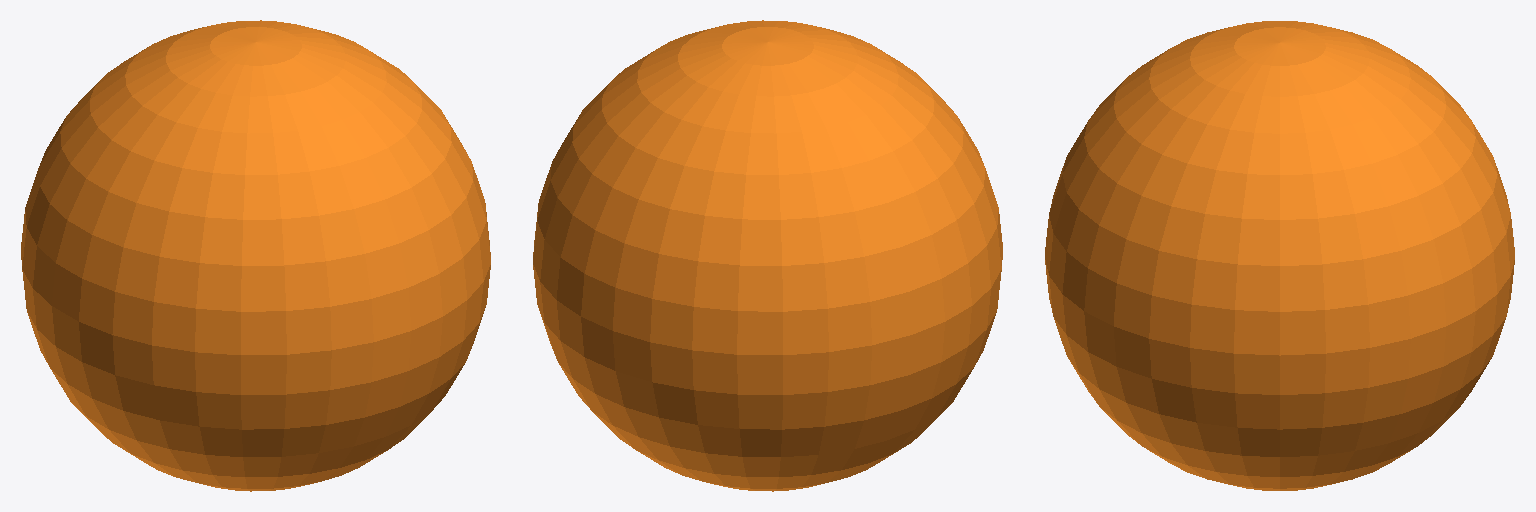
URDF robot description (object_robot):
<?xml version="1.0"?>
<robot name="object_robot">
     <material name="Red">
                <color rgba ="1.0 0.6 0.2 1.0"/>
            </material>
    <link name="object">
        <inertial>
            <mass value="0.26" />
            <origin xyz="0.0 0 0.0" rpy="0 0 0"/>
            <inertia ixx="0.00026" ixy="0" ixz="0" iyy="0.00026" iyz="0" izz="0.00026" />
        </inertial>
        <visual>
            <origin xyz="0 0 0" rpy="0 0 0" />
            <geometry>
                <sphere radius="0.05" />
            </geometry>
            <material name="Red" />
        </visual>

        <collision group="default">
            <origin xyz="0 0 0.0"  rpy="0 0 0"/>
            <geometry>
                <sphere radius="0.05" />
            </geometry>
        </collision>
    </link>


</robot>

--- What the picture shows (computed from the rendered views, not written in the file) ---
3 views of the same robot in one strip: view 1: azimuth 30°, elevation 25°; view 2: azimuth 150°, elevation 25°; view 3: azimuth 270°, elevation 25° (orthographic).
Model object_robot with 1 links and 0 joints (none), rooted at object, posed all joints at 0.
Links seen in each view (by area): view 1: object; view 2: object; view 3: object.
Link boxes in pixels (left/top/right/bottom): object: left=21, top=20, right=490, bottom=491; object: left=533, top=20, right=1002, bottom=491; object: left=1045, top=21, right=1514, bottom=490.
Size in the robot's own frame: 0.1 by 0.1 by 0.1 metres.
Geometry: primitives only (box / cylinder / sphere), no mesh files.